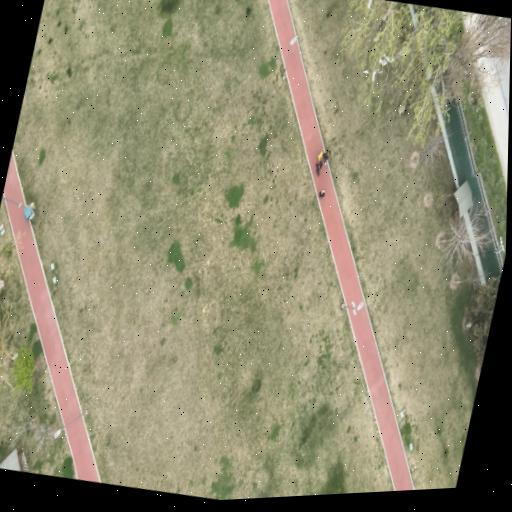person: (315, 149, 324, 175), (315, 161, 322, 175), (321, 151, 329, 162), (317, 149, 323, 161), (318, 189, 324, 199)
